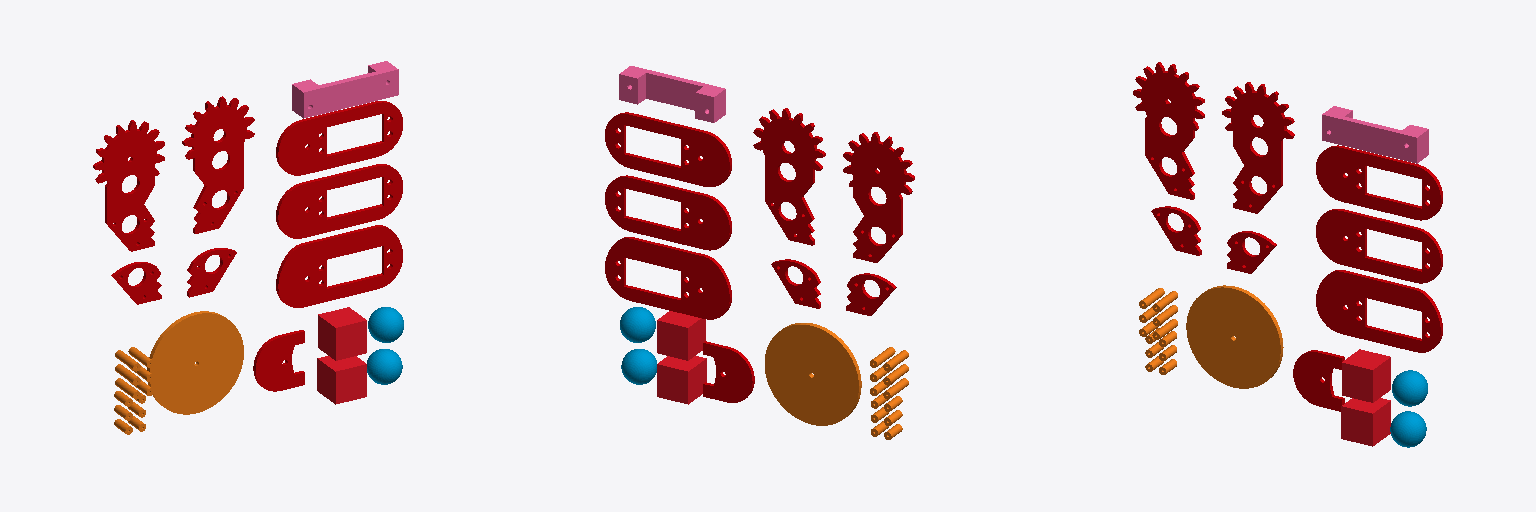
Rendered from tinker.obj.
3 renders of one model, left to right at view 1: azimuth 30°, elevation 25°; view 2: azimuth 150°, elevation 25°; view 3: azimuth 330°, elevation 25°, orthographic.
Parts seen in each view (by area): view 1: obj_25, obj_10, obj_6, obj_3, obj_9, obj_7, obj_24, obj_8, obj_20, obj_22, obj_4, obj_5 (+2 smaller); view 2: obj_25, obj_10, obj_6, obj_3, obj_7, obj_9, obj_24, obj_8, obj_22, obj_20, obj_4, obj_5 (+2 smaller); view 3: obj_25, obj_10, obj_6, obj_3, obj_9, obj_7, obj_24, obj_8, obj_20, obj_22, obj_5, obj_4 (+2 smaller).
Part boxes in pixels (left/top/right/bottom): obj_25: left=147, top=311, right=243, bottom=414; obj_10: left=276, top=225, right=402, bottom=307; obj_6: left=93, top=120, right=164, bottom=251; obj_3: left=182, top=96, right=254, bottom=233; obj_9: left=276, top=164, right=402, bottom=238; obj_7: left=276, top=101, right=402, bottom=175; obj_24: left=292, top=61, right=398, bottom=118; obj_8: left=253, top=330, right=304, bottom=391; obj_20: left=318, top=307, right=366, bottom=360; obj_22: left=317, top=356, right=366, bottom=404; obj_4: left=187, top=248, right=236, bottom=297; obj_5: left=111, top=262, right=161, bottom=304; obj_25: left=765, top=323, right=861, bottom=425; obj_10: left=605, top=237, right=731, bottom=319; obj_6: left=843, top=132, right=914, bottom=262; obj_3: left=753, top=108, right=825, bottom=245; obj_7: left=605, top=112, right=731, bottom=186; obj_9: left=605, top=175, right=731, bottom=250; obj_24: left=619, top=66, right=725, bottom=122; obj_8: left=703, top=341, right=754, bottom=402; obj_22: left=657, top=356, right=706, bottom=404; obj_20: left=657, top=311, right=705, bottom=360; obj_4: left=771, top=259, right=820, bottom=308; obj_5: left=846, top=273, right=896, bottom=315; obj_25: left=1186, top=285, right=1283, bottom=388; obj_10: left=1316, top=270, right=1442, bottom=352; obj_6: left=1133, top=62, right=1204, bottom=199; obj_3: left=1222, top=82, right=1294, bottom=213; obj_9: left=1316, top=209, right=1442, bottom=283; obj_7: left=1316, top=145, right=1442, bottom=220; obj_24: left=1322, top=106, right=1428, bottom=163; obj_8: left=1293, top=350, right=1344, bottom=411; obj_20: left=1342, top=349, right=1390, bottom=402; obj_22: left=1341, top=398, right=1390, bottom=446; obj_5: left=1151, top=206, right=1201, bottom=255; obj_4: left=1227, top=231, right=1276, bottom=273.
Size of the model in its own units: 196 by 193 by 20.